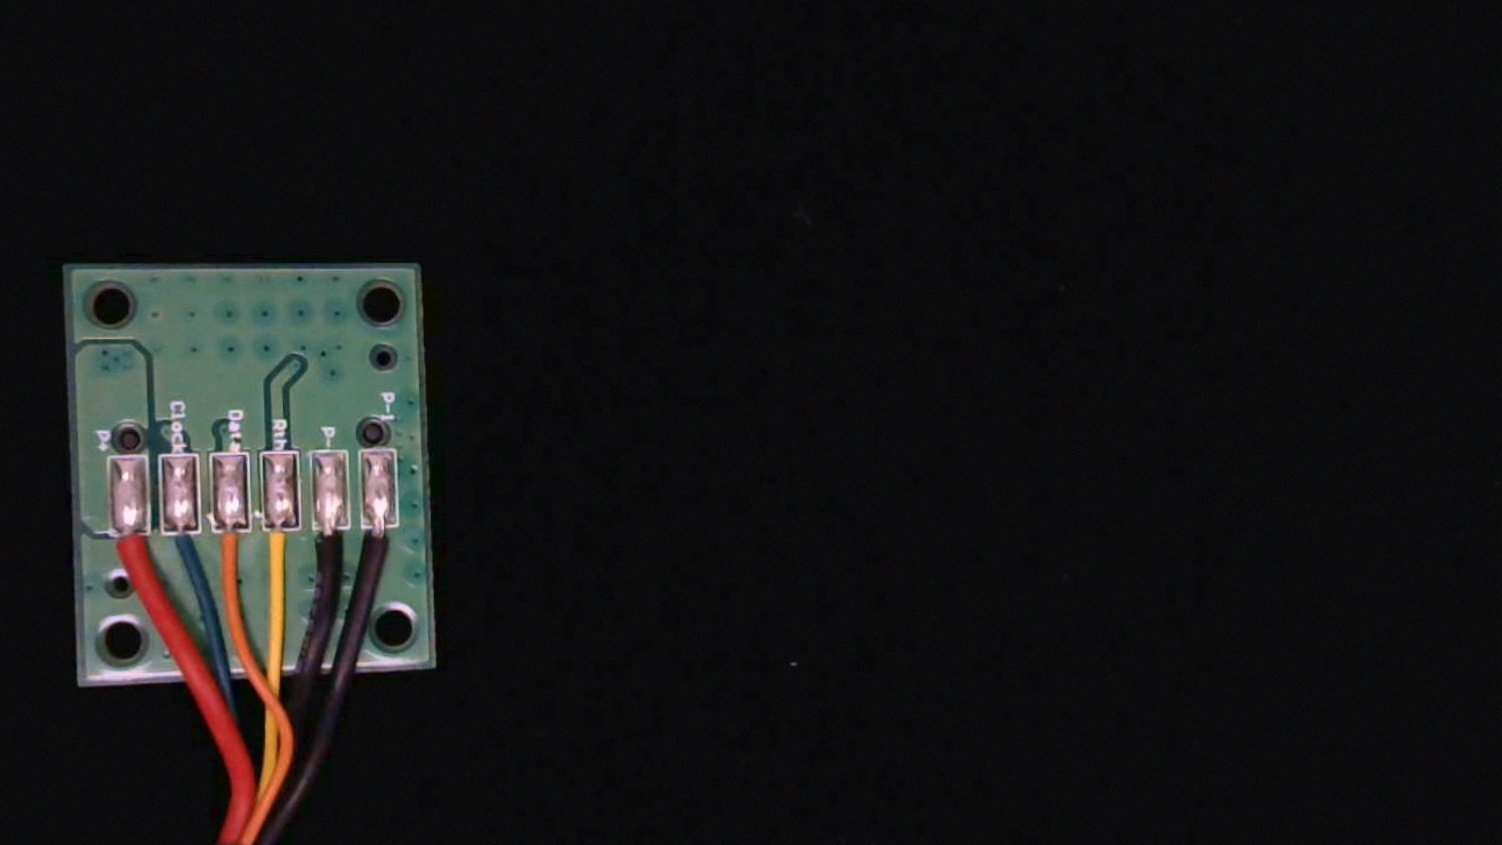Black: (312, 510, 351, 588)
Black1: (359, 509, 400, 591)
Green: (159, 513, 201, 584)
Orange: (209, 512, 249, 587)
Red: (106, 515, 151, 602)
Yellow: (261, 512, 303, 588)
